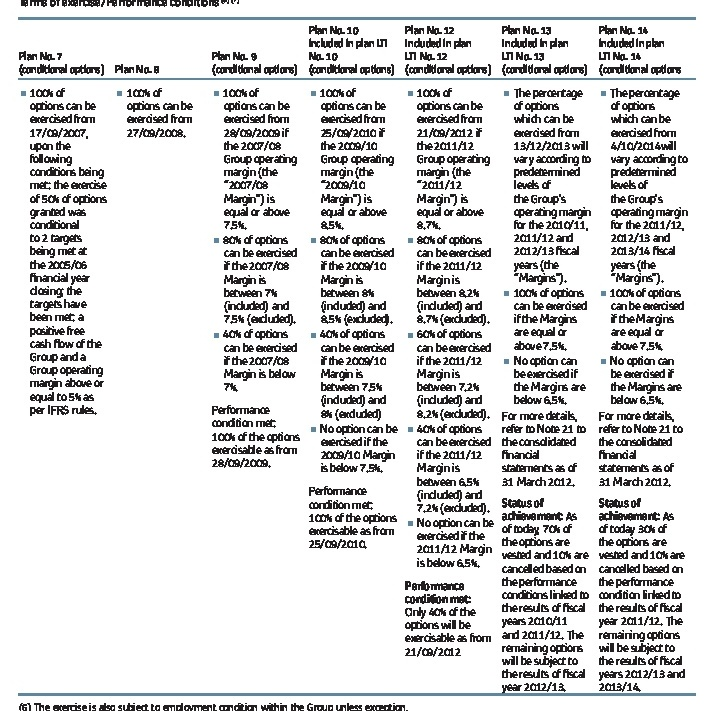table: (0, 0, 708, 711)
